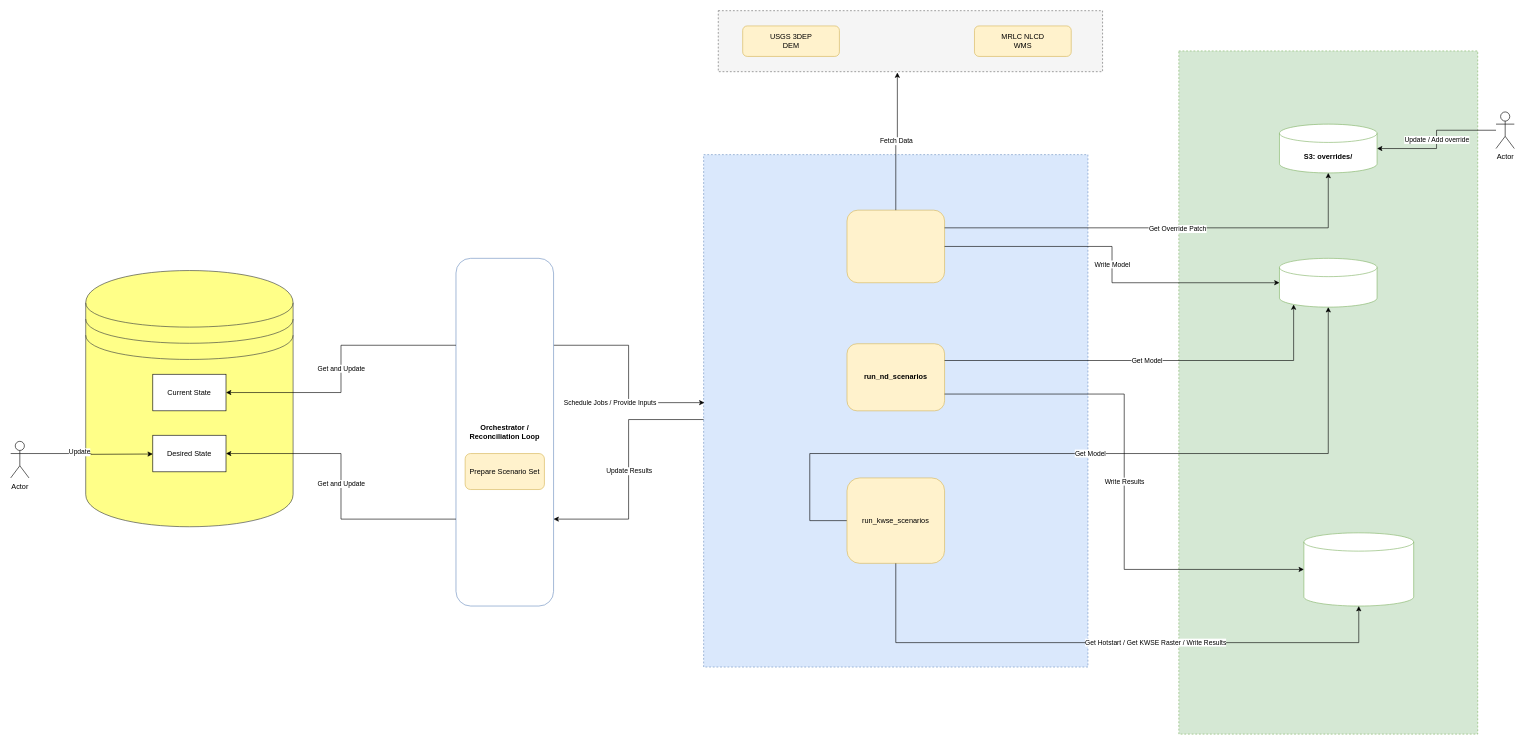
Some shapes in this 1525 by 745 pixel diagram are drawn without their labels. The shapes that lost their labels are listed below. From the top down, each one's box as (x1, y1, x2, y2) in pixels, then its label:
(718, 10, 1103, 72): External sources
(846, 210, 945, 283): build_model
(1279, 258, 1377, 307): S3: models/
(703, 154, 1088, 667): Stateless Jobs
(1178, 50, 1478, 734): Storage plane
(1303, 532, 1414, 606): S3: results/ depth.tif run.json
